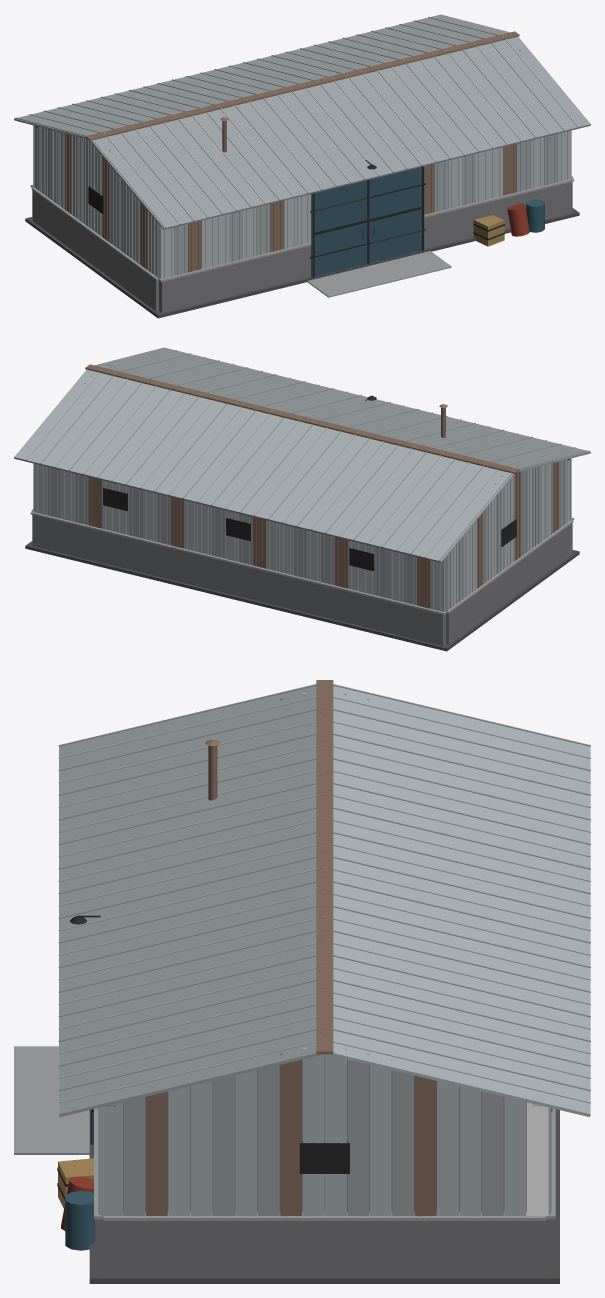
File: warehouse.glb
3 views of the same model, one above another, from view 1: azimuth 30°, elevation 25°; view 2: azimuth 150°, elevation 25°; view 3: azimuth 270°, elevation 25° (orthographic). The views are drawn at different scales.
Parts seen in each view (by area): view 1: Mesh_RoofFront, Mesh_RoofBack, Mesh_BlockFrontRight, Mesh_DoorRight_Main, Mesh_DoorLeft_Main, Mesh_BlockRight, Mesh_BlockFrontLeft, Mesh_RoofRidgeCap, Mesh_LoadingApron, Mesh_Slab, Mesh_SupplyCrate, Mesh_FrontLeftPanel_0 (+44 smaller); view 2: Mesh_RoofBack, Mesh_RoofFront, Mesh_BlockBack, Mesh_BlockRight, Mesh_Slab, Mesh_RoofRidgeCap, Mesh_LedgeBack, Mesh_BackPanel_0, Mesh_BackPanel_3, Mesh_BackPanel_16, Mesh_BackPanel_19, Mesh_BackPanel_22 (+47 smaller); view 3: Mesh_RoofBack, Mesh_RoofFront, Mesh_BlockLeft, Mesh_Slab, Mesh_RoofRidgeCap, Mesh_LoadingApron, Mesh_SidePanel_L_8, Mesh_SidePanel_L_13, Mesh_SidePanel_L_11, Mesh_SidePanel_L_5, Mesh_SidePanel_L_7, Mesh_SidePanel_L_12 (+18 smaller).
Part boxes in pixels (box(x1,y1,x2,y2)): Mesh_RoofFront: box(90, 36, 590, 229); Mesh_RoofBack: box(14, 14, 509, 138); Mesh_BlockFrontRight: box(159, 245, 311, 312); Mesh_DoorRight_Main: box(311, 180, 369, 277); Mesh_DoorLeft_Main: box(369, 166, 424, 263); Mesh_BlockRight: box(33, 190, 158, 311); Mesh_BlockFrontLeft: box(424, 182, 572, 248); Mesh_RoofRidgeCap: box(85, 31, 519, 140); Mesh_LoadingApron: box(307, 251, 451, 297); Mesh_Slab: box(25, 208, 579, 318); Mesh_SupplyCrate: box(473, 215, 504, 246); Mesh_FrontLeftPanel_0: box(557, 130, 571, 181); Mesh_RoofBack: box(14, 369, 514, 562); Mesh_RoofFront: box(95, 347, 590, 471); Mesh_BlockBack: box(32, 515, 445, 645); Mesh_BlockRight: box(446, 523, 571, 644); Mesh_Slab: box(25, 541, 579, 651); Mesh_RoofRidgeCap: box(85, 364, 519, 473); Mesh_LedgeBack: box(30, 511, 446, 614); Mesh_BackPanel_0: box(33, 463, 47, 514); Mesh_BackPanel_3: box(74, 473, 88, 524); Mesh_BackPanel_16: box(252, 517, 266, 568); Mesh_BackPanel_19: box(293, 527, 307, 578); Mesh_BackPanel_22: box(334, 537, 348, 588); Mesh_RoofBack: box(326, 686, 590, 1116); Mesh_RoofFront: box(59, 686, 323, 1116); Mesh_BlockLeft: box(106, 1221, 543, 1276); Mesh_Slab: box(89, 1054, 559, 1283); Mesh_RoofRidgeCap: box(316, 680, 333, 1054); Mesh_LoadingApron: box(14, 1046, 89, 1154); Mesh_SidePanel_L_8: box(347, 1053, 369, 1215); Mesh_SidePanel_L_13: box(235, 1065, 257, 1215); Mesh_SidePanel_L_11: box(280, 1053, 301, 1215); Mesh_SidePanel_L_5: box(414, 1076, 436, 1215); Mesh_SidePanel_L_7: box(370, 1059, 391, 1215); Mesh_SidePanel_L_12: box(258, 1059, 279, 1215).
Size of the model in its own units: 15.7 by 5.31 by 10.3.
